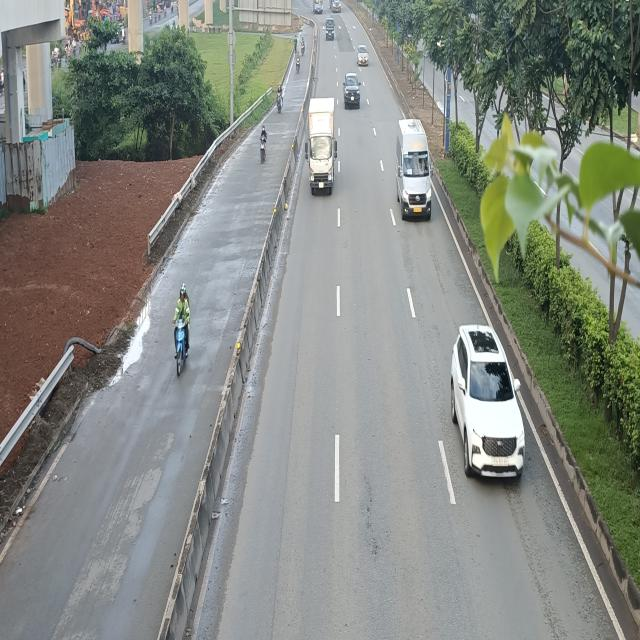car: (451, 325, 527, 483), (344, 74, 361, 110)
truck: (305, 96, 338, 195)
van: (398, 117, 435, 221)
